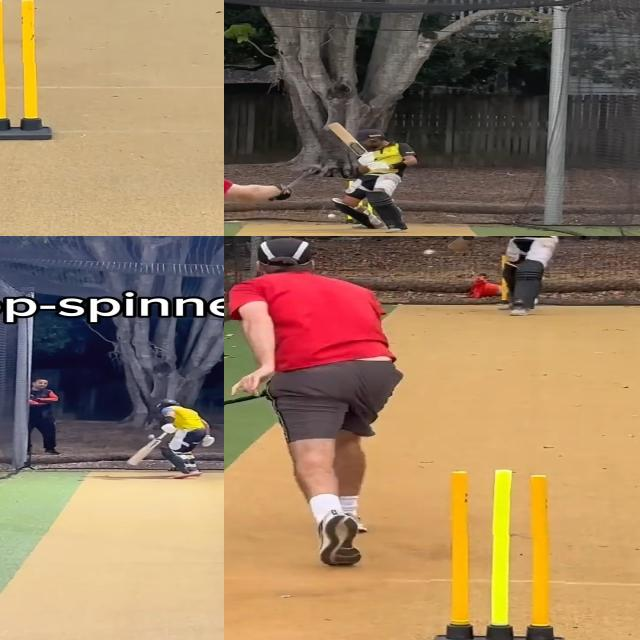Cricket ball: (421, 246, 437, 256), (327, 212, 337, 220), (147, 434, 155, 439)
Stumps: (428, 467, 565, 640), (0, 0, 52, 143)
